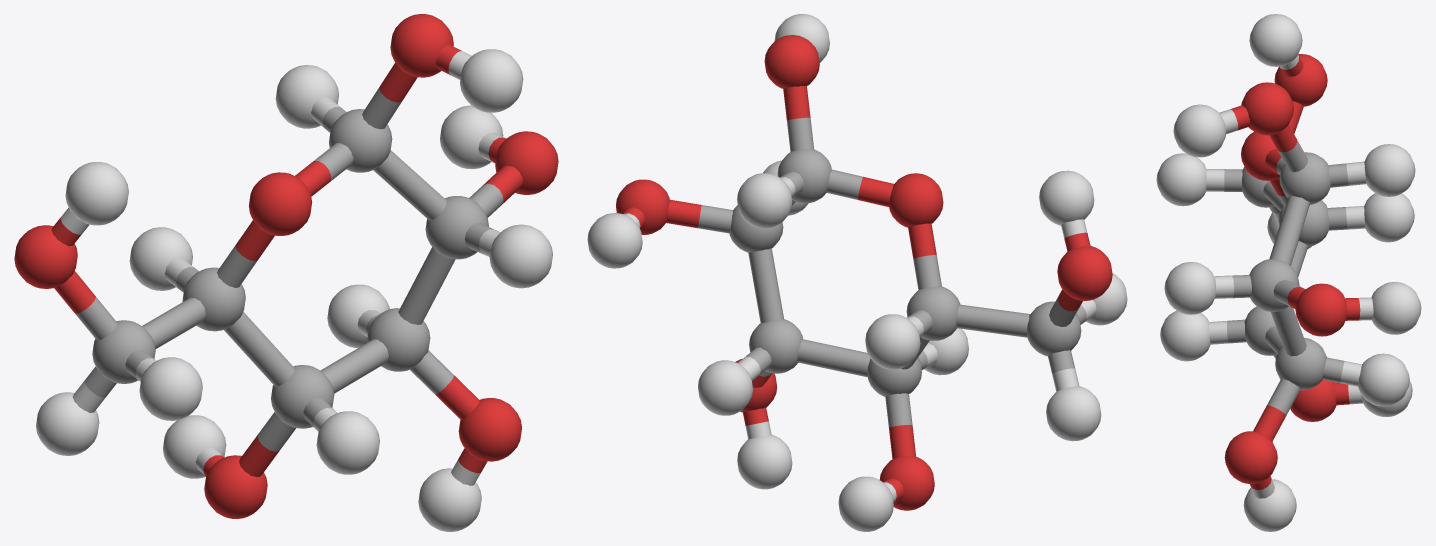
Rendered from glucose-bas.glb.
3 renders of one model, left to right at view 1: azimuth 30°, elevation 25°; view 2: azimuth 150°, elevation 25°; view 3: azimuth 270°, elevation 25°, orthographic. The views are drawn at different scales.
Visible parts, largest first — view 1: glucose-bas; view 2: glucose-bas; view 3: glucose-bas.
Part boxes in pixels (x1,y1,x2,y2): glucose-bas: (14, 14, 558, 531); glucose-bas: (587, 14, 1127, 531); glucose-bas: (1156, 14, 1421, 531).
Bounding box in the file's own units: 6.94 × 6.29 × 3.49.
